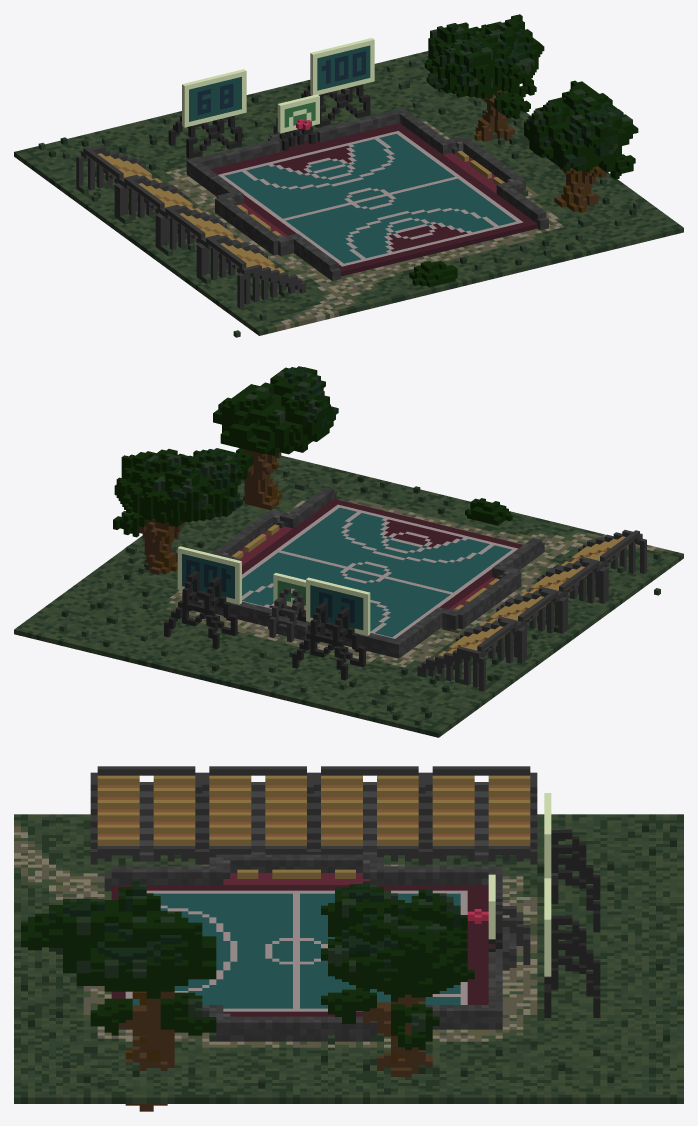
The model's file is Basket_Grid.glb.
3 renders of one model, top to bottom at view 1: azimuth 30°, elevation 25°; view 2: azimuth 150°, elevation 25°; view 3: azimuth 270°, elevation 25°, orthographic. The views are drawn at different scales.
Visible parts, largest first — view 1: Untitled; view 2: Untitled; view 3: Untitled.
Boxes of the visible parts, x1=… form: Untitled: x1=14, y1=14, x2=683, y2=337; Untitled: x1=14, y1=366, x2=683, y2=737; Untitled: x1=14, y1=766, x2=683, y2=1111.
Bounding box in the file's own units: 9.6 × 2.9 × 9.6.
Materials: 1 (1 with a texture image).
